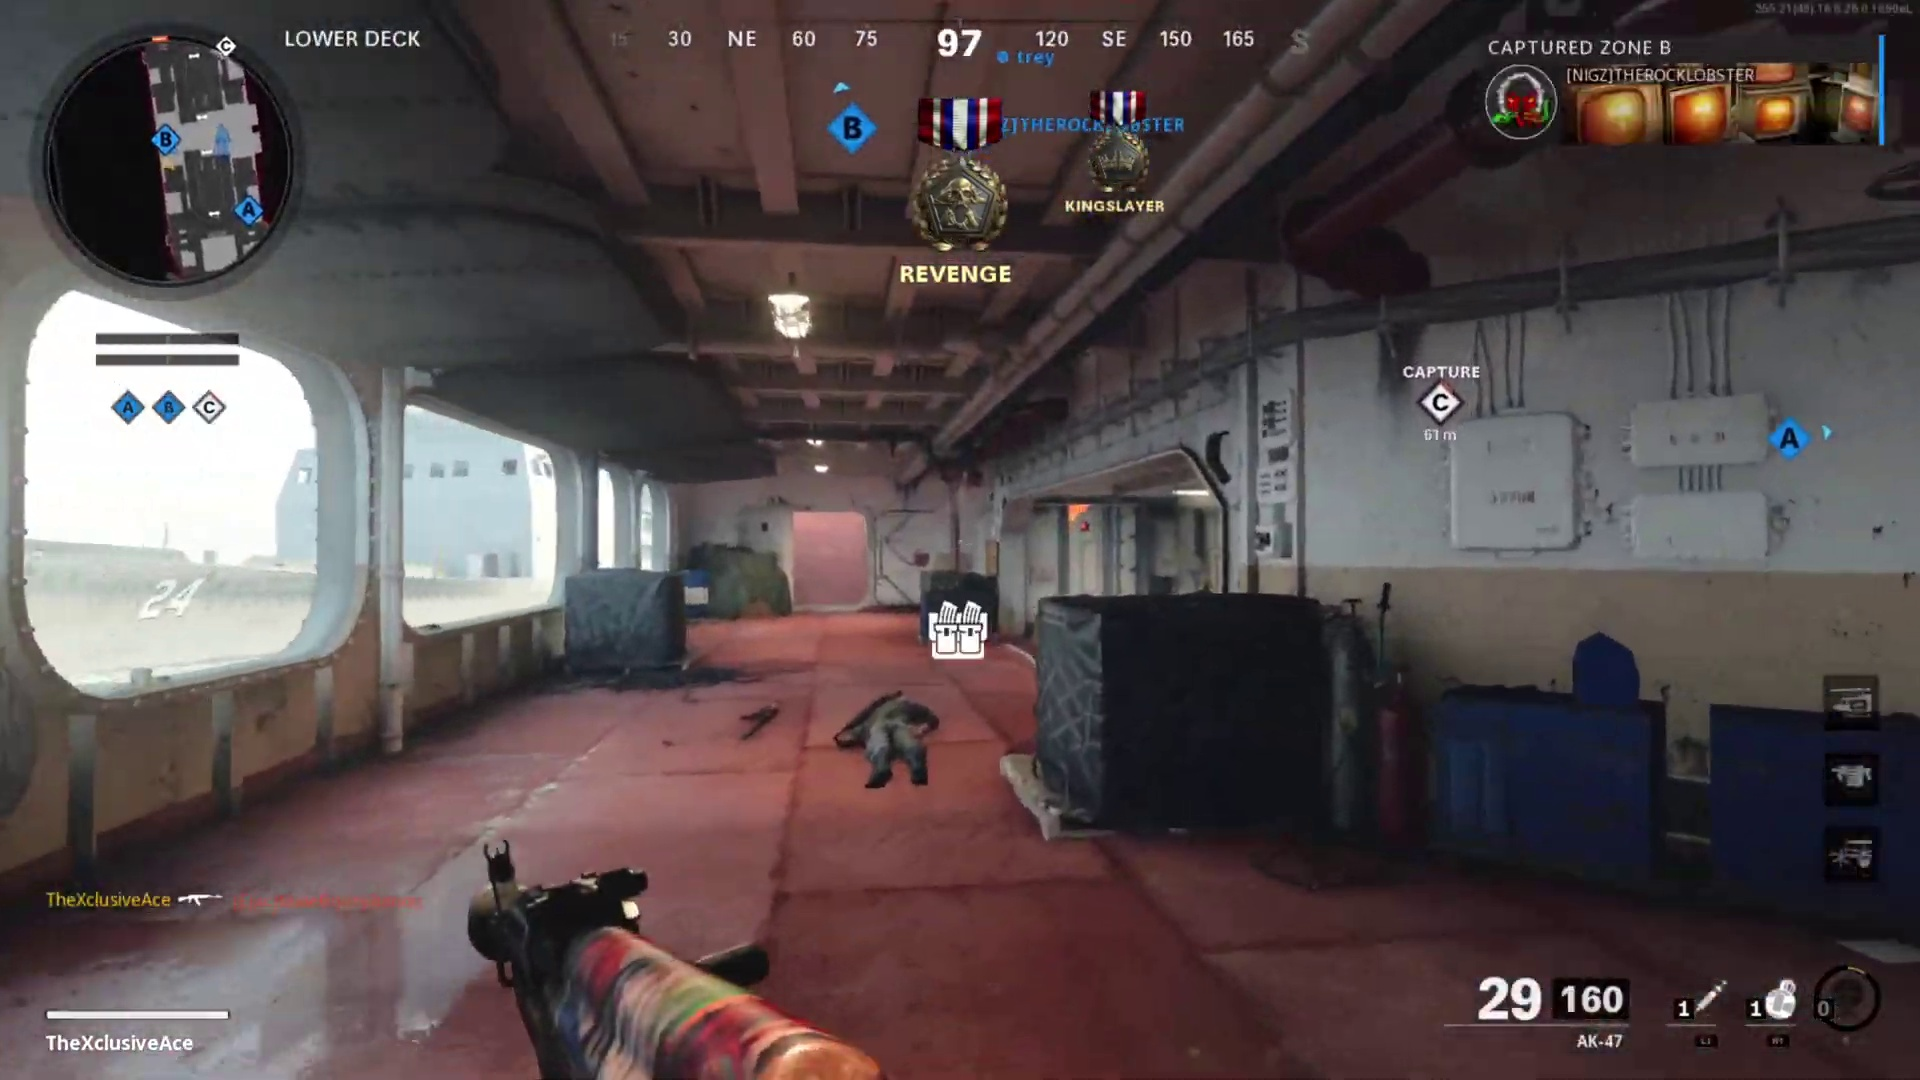person: (855, 696, 933, 788)
